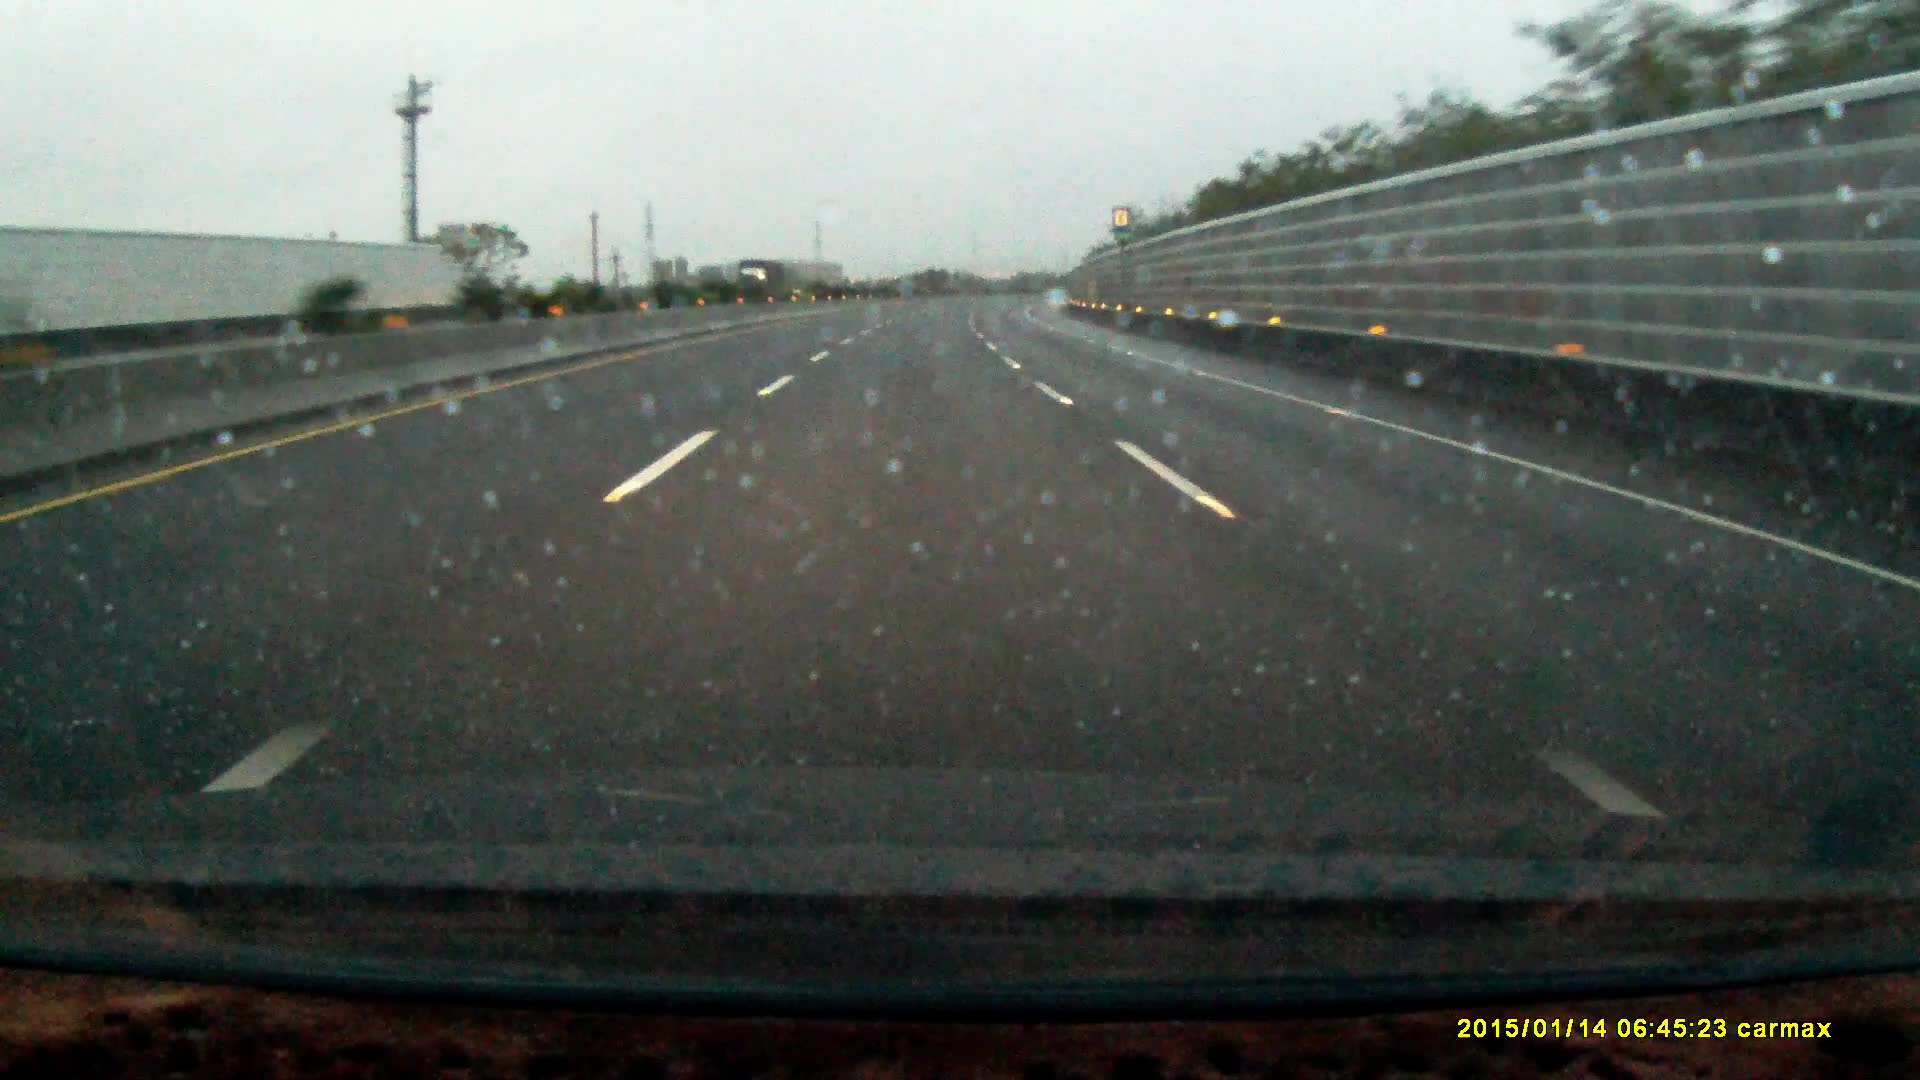vehicle: (737, 265, 787, 301)
